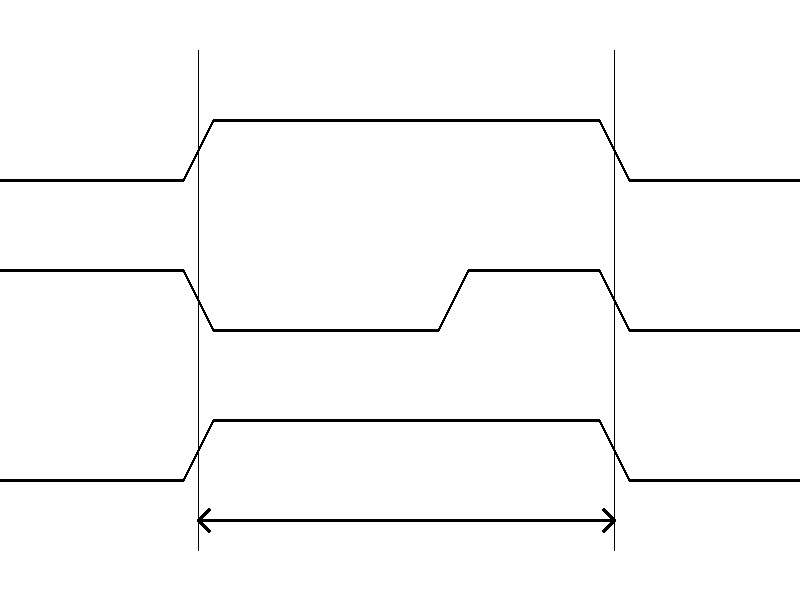double_arrow: (198, 505, 614, 535)
